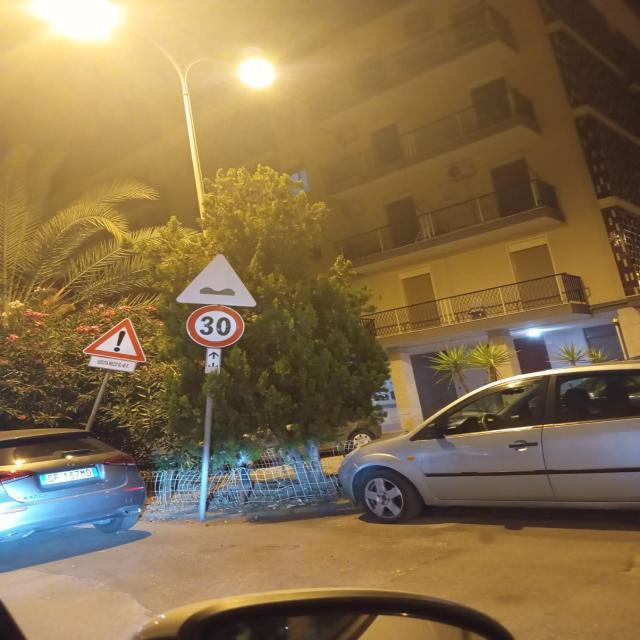forb_speed_over_30: (185, 303, 247, 349)
